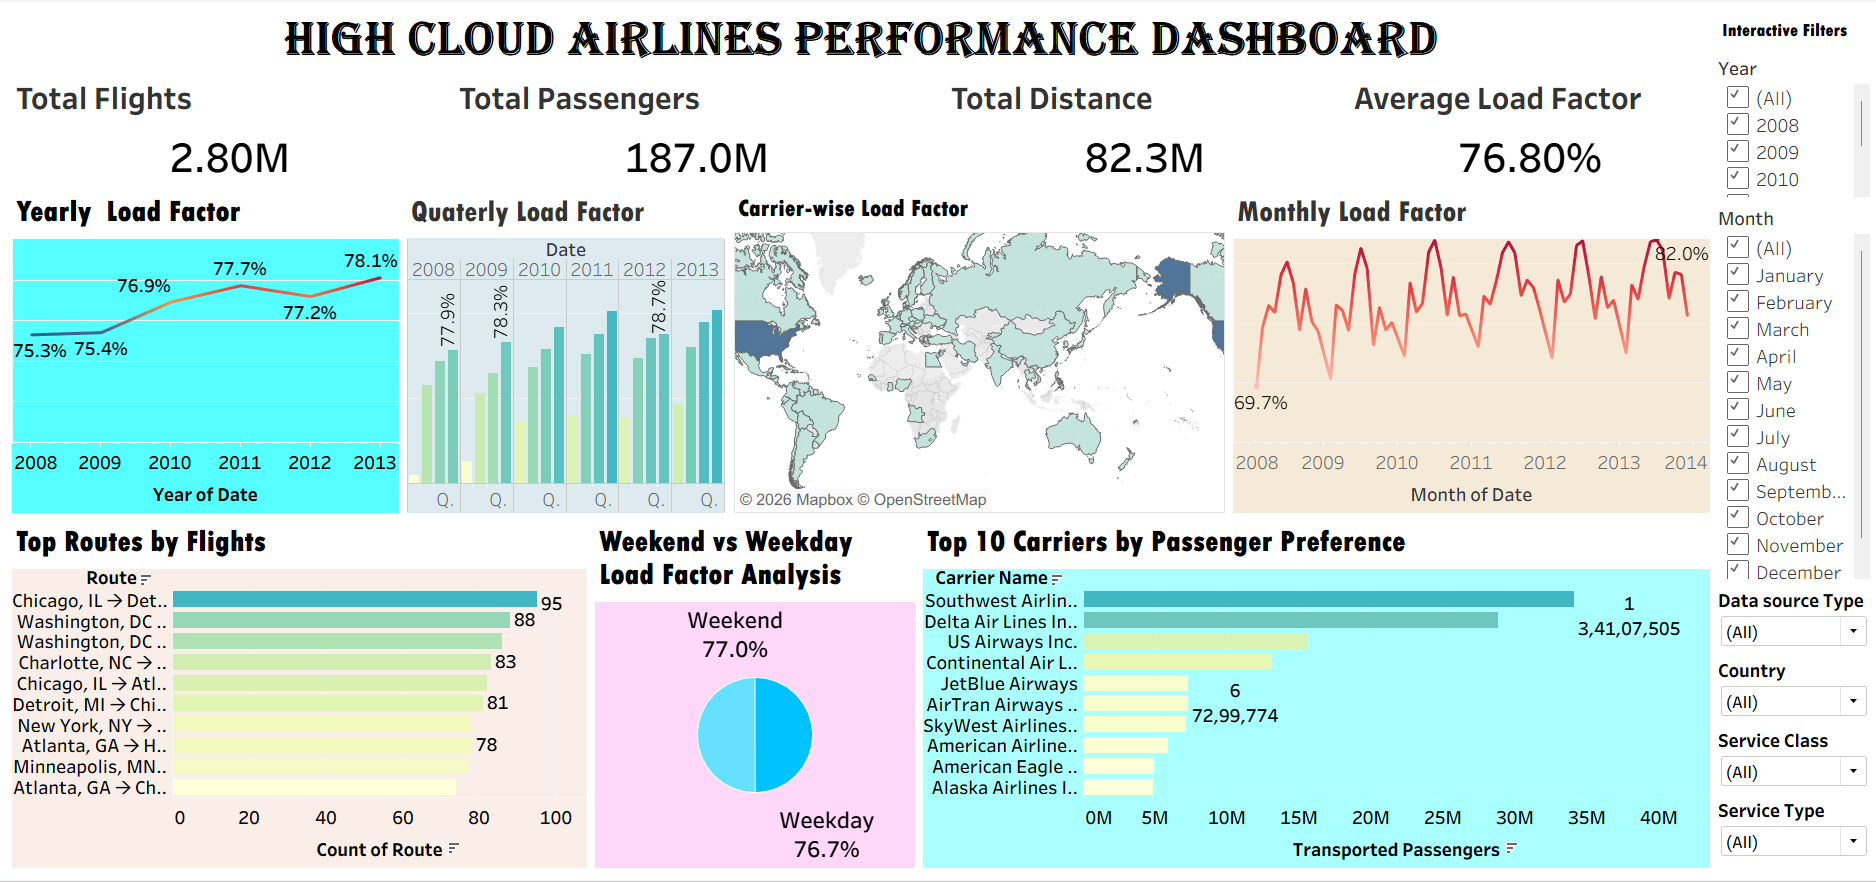

This screenshot's page, from the dashboard's own definition file:
{"tool":"tableau","page":{"name":"Dashboard","canvas":[1000,1000],"units":"permille","ordinal":0},"visuals":[{"type":"text","box":[5,9.1,890.3,66.1]},{"type":"text","box":[895.3,9.1,99.8,46.7]},{"type":"filter","title":"Quaterly","param":"[federated.07ergx20t0ou0o1g8bno91ignzut].[yr:Date:ok]","box":[895.3,55.8,99.8,170.8]},{"type":"worksheet","title":"KPI-Flights","mark":"Automatic","box":[5,75.2,231.1,135.5]},{"type":"worksheet","title":"KPI-Passengers","mark":"Automatic","box":[236.1,75.2,256.8,135.5]},{"type":"worksheet","title":"KPI-distance","mark":"Automatic","box":[492.9,75.2,210.4,135.5]},{"type":"worksheet","title":"KPI-Load_factor","mark":"Automatic","box":[703.3,75.2,192,135.5]},{"type":"worksheet","title":"Yearly ","mark":"Line","rows":["Calculation_0590780101451784"],"cols":["Date"],"box":[5,210.7,206.4,375.9]},{"type":"worksheet","title":"Quaterly","mark":"Bar","rows":["Calculation_0590780101451784"],"cols":["Date","Date"],"box":[211.3,210.7,170.2,375.9]},{"type":"worksheet","title":"Flight Map","mark":"Automatic","box":[381.6,210.7,260.6,375.9]},{"type":"worksheet","title":"month","mark":"Line","rows":["Calculation_0590780101451784"],"cols":["Date"],"box":[642.1,210.7,253.1,375.9]},{"type":"filter","title":"month","param":"[federated.07ergx20t0ou0o1g8bno91ignzut].[none:Calculation_0590780090060801:nk]","box":[895.3,226.7,99.8,435.1]},{"type":"worksheet","title":"Top Routes","mark":"Automatic","rows":["Calculation_0340091721400322"],"cols":["Calculation_0340091721400322"],"box":[5,586.6,304.2,404.3]},{"type":"worksheet","title":"Weekend vs Weekday Load Factor Analysis ","mark":"Pie","box":[309.2,586.6,171.1,404.3]},{"type":"worksheet","title":"Top 10 carriers","mark":"Bar","rows":["Carrier Name"],"cols":["Transported Passengers"],"box":[480.3,586.6,415,404.3]},{"type":"filter","title":"Top Routes","param":"[federated.07ergx20t0ou0o1g8bno91ignzut].[none:Datasource ID:nk]","box":[895.3,661.7,99.8,79.7]},{"type":"filter","title":"Top Routes","param":"[federated.07ergx20t0ou0o1g8bno91ignzut].[none:Origin Country:nk]","box":[895.3,741.5,99.8,79.7]},{"type":"filter","title":"Top Routes","param":"[federated.07ergx20t0ou0o1g8bno91ignzut].[none:Service Class ID:nk]","box":[895.3,821.2,99.8,79.7]},{"type":"filter","title":"Top Routes","param":"[federated.07ergx20t0ou0o1g8bno91ignzut].[none:Region Code:nk]","box":[895.3,900.9,99.8,90]}]}

Visuals, with their boxes on the dashboard's canvas, which has no fixed pixel size, in thousandths of its width and height (x1, y1, x2, y2). These are canvas units, not pixel positions in the 1876x882 screenshot, which may show the page scaled, cropped or inside an application window:
text: Rect(5, 9, 895, 75)
text: Rect(895, 9, 995, 56)
"Quaterly" filter: Rect(895, 56, 995, 227)
"KPI-Flights" worksheet: Rect(5, 75, 236, 211)
"KPI-Passengers" worksheet: Rect(236, 75, 493, 211)
"KPI-distance" worksheet: Rect(493, 75, 703, 211)
"KPI-Load_factor" worksheet: Rect(703, 75, 895, 211)
"Yearly " worksheet (Line marks): Rect(5, 211, 211, 587)
"Quaterly" worksheet (Bar marks): Rect(211, 211, 382, 587)
"Flight Map" worksheet: Rect(382, 211, 642, 587)
"month" worksheet (Line marks): Rect(642, 211, 895, 587)
"month" filter: Rect(895, 227, 995, 662)
"Top Routes" worksheet: Rect(5, 587, 309, 991)
"Weekend vs Weekday Load Factor Analysis " worksheet (Pie marks): Rect(309, 587, 480, 991)
"Top 10 carriers" worksheet (Bar marks): Rect(480, 587, 895, 991)
"Top Routes" filter: Rect(895, 662, 995, 741)
"Top Routes" filter: Rect(895, 742, 995, 821)
"Top Routes" filter: Rect(895, 821, 995, 901)
"Top Routes" filter: Rect(895, 901, 995, 991)
